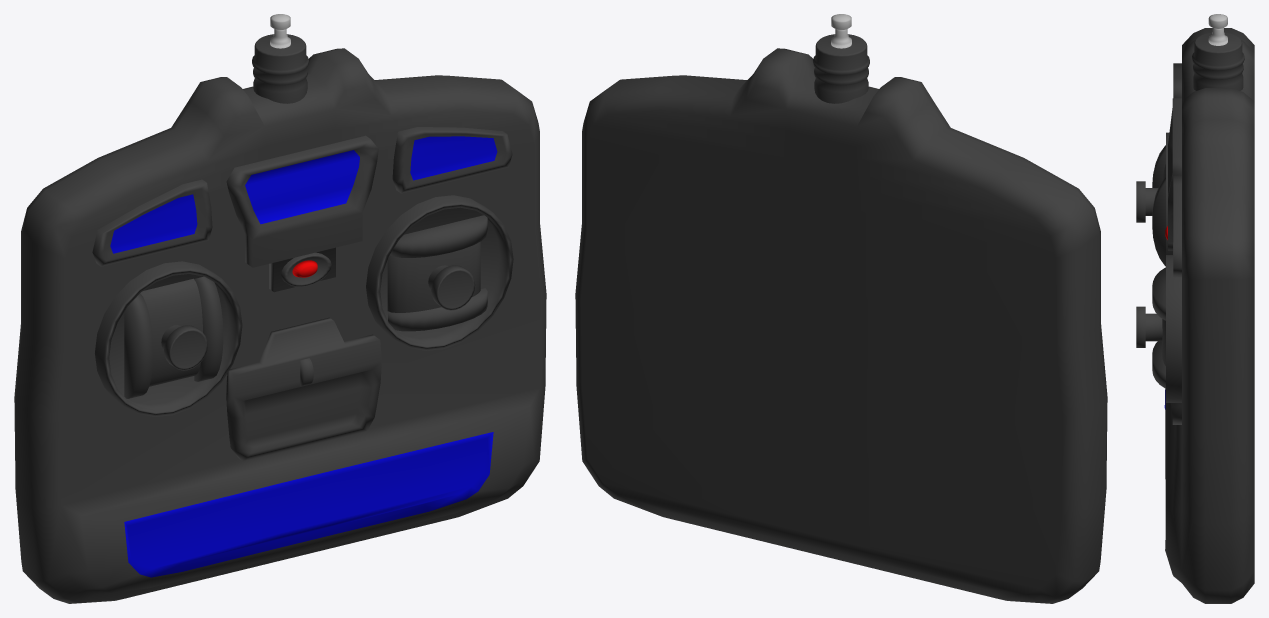
File: Controller_off.fbx
3 views of the same model, side by side, from view 1: azimuth 30°, elevation 25°; view 2: azimuth 150°, elevation 25°; view 3: azimuth 270°, elevation 25° (orthographic). The views are drawn at different scales.
Parts seen in each view (by area): view 1: Controller_off; view 2: Controller_off; view 3: Controller_off.
Boxes of the visible parts, x1,y1,x2,y2 form: Controller_off: (14, 14, 546, 603); Controller_off: (575, 14, 1107, 603); Controller_off: (1136, 14, 1254, 603).
Bounding box in the file's own units: 15.08 × 15.07 × 3.25.
